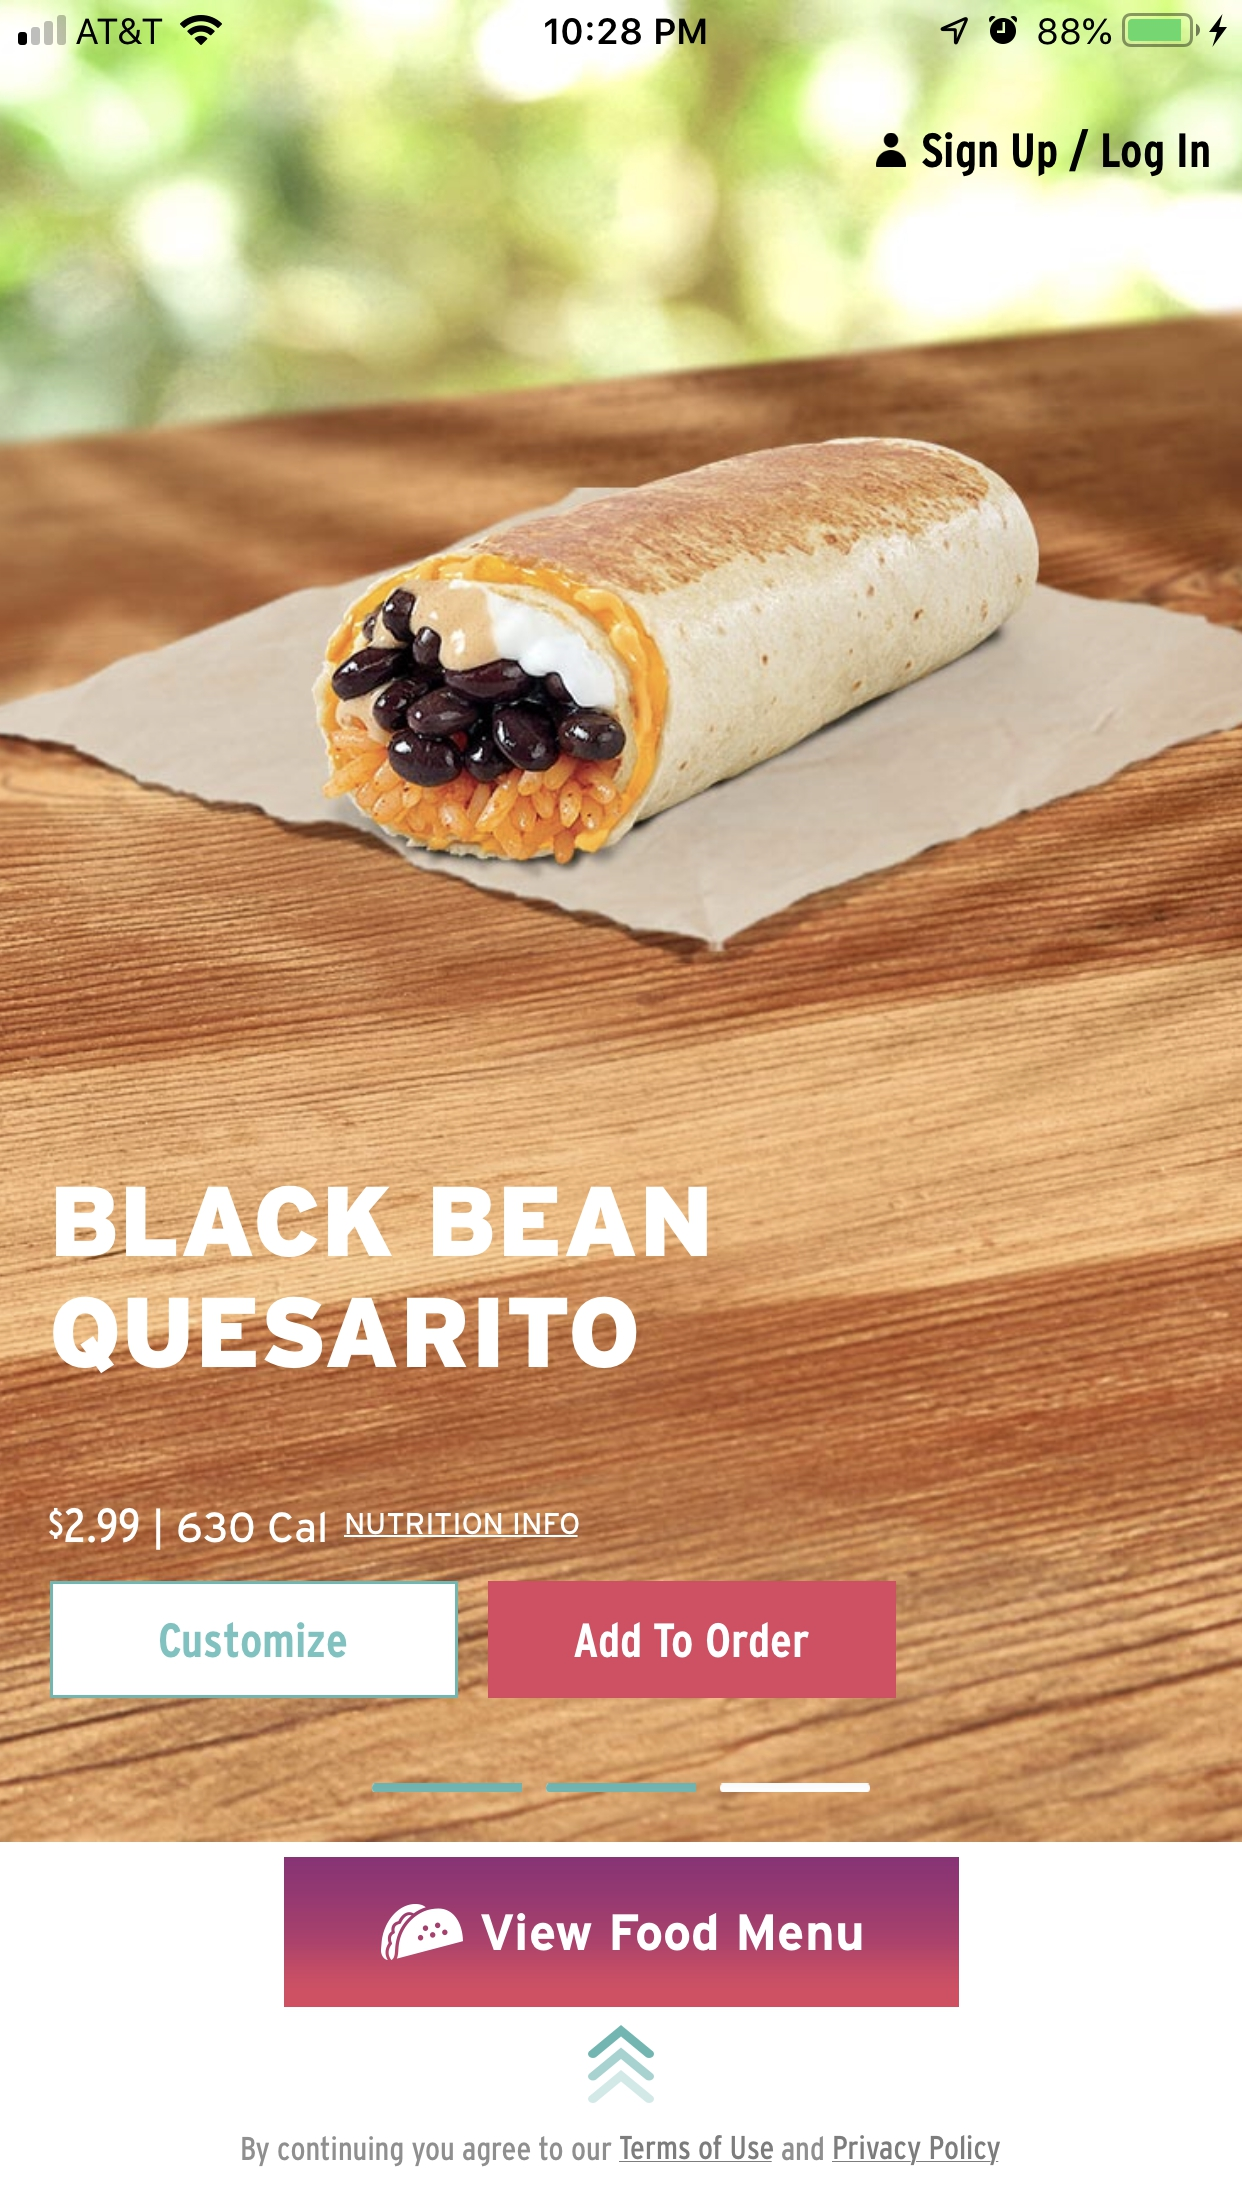Icon: (588, 2025, 655, 2103), (877, 133, 907, 168)
Image: (2, 2, 1242, 1843)
PageIndicator: (373, 1780, 870, 1792)
Text: (52, 1186, 710, 1375), (241, 2134, 1001, 2167), (49, 1507, 579, 1551), (922, 129, 1210, 177)
TextButton: (285, 1858, 960, 2008), (488, 1582, 898, 1698), (50, 1582, 458, 1698)
UpperTaskBar: (2, 2, 1242, 49)
